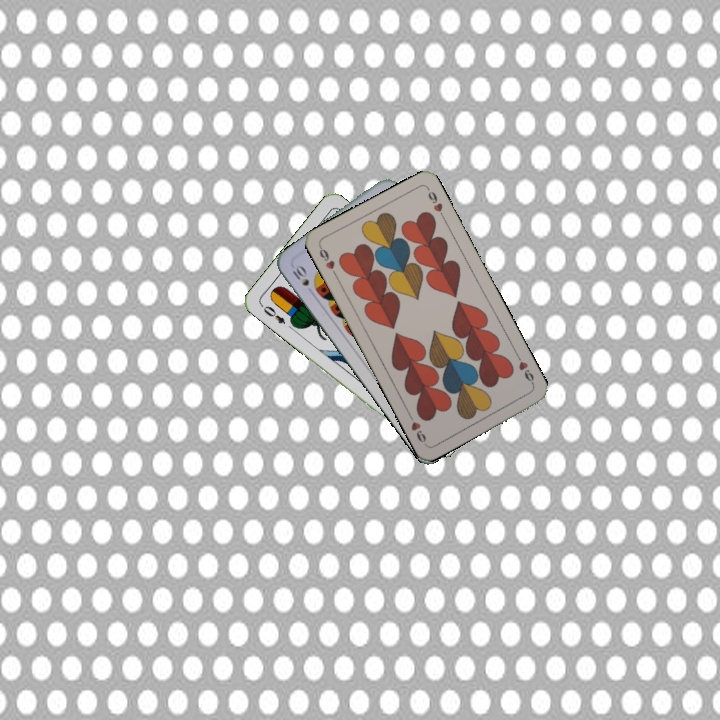EO: (257, 301, 288, 327)
H9: (315, 242, 340, 280), (512, 351, 537, 388)
S10: (288, 260, 312, 289)
